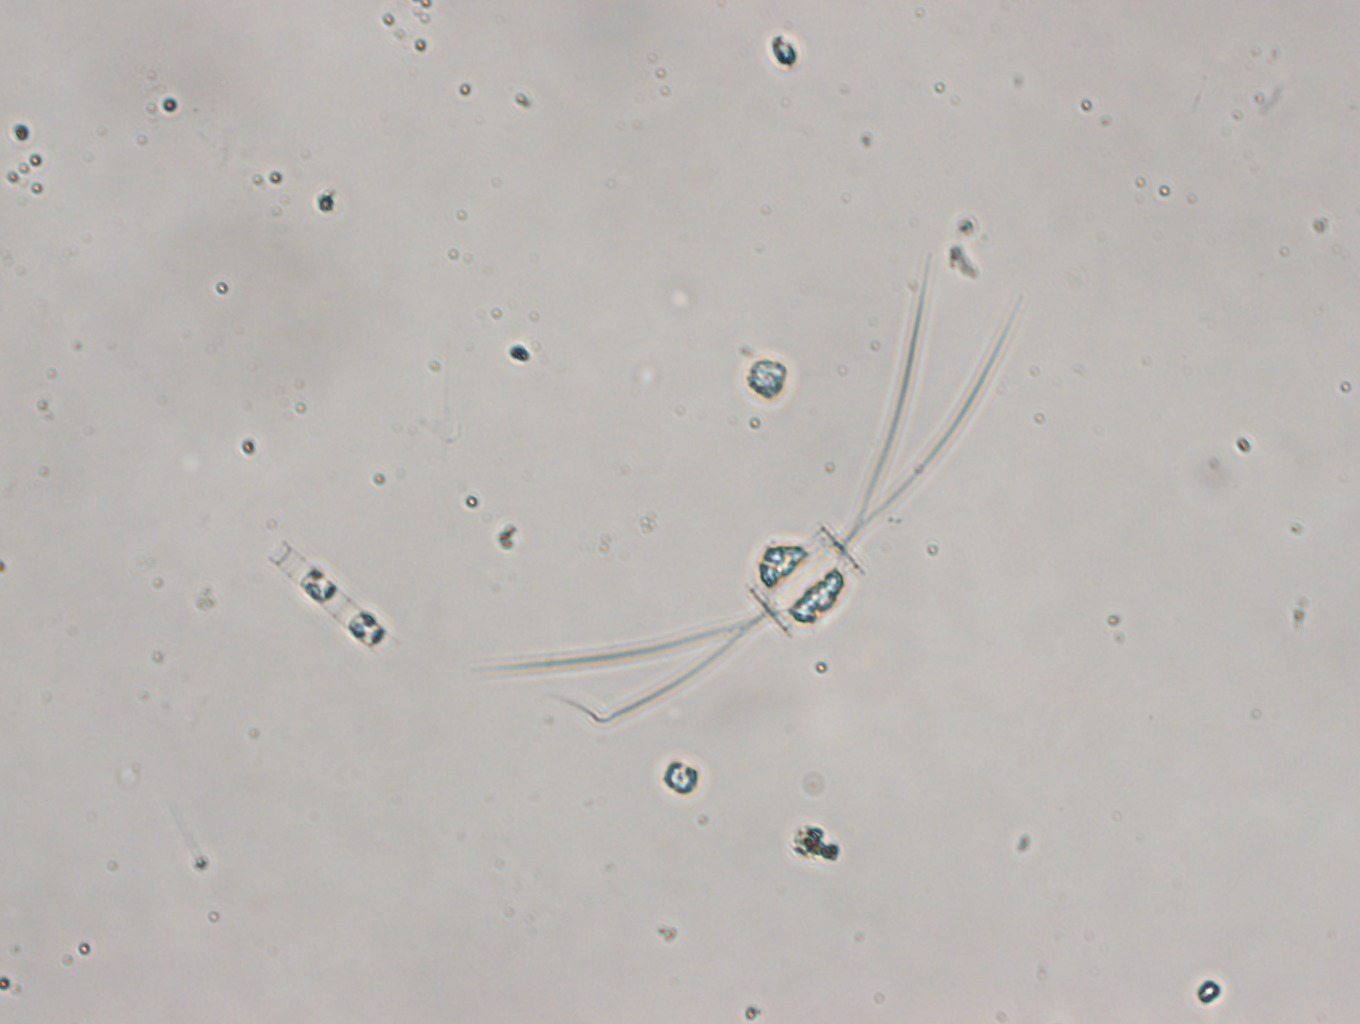chaetoceros: (492, 255, 1037, 734)
